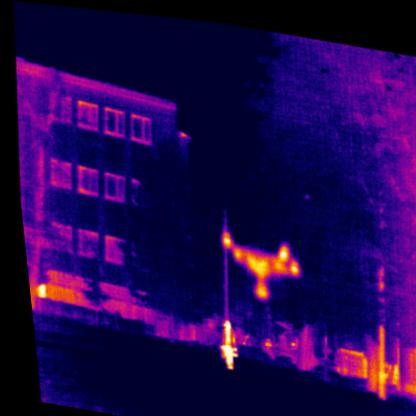drone: (211, 225, 299, 300)
human: (210, 314, 233, 365)
